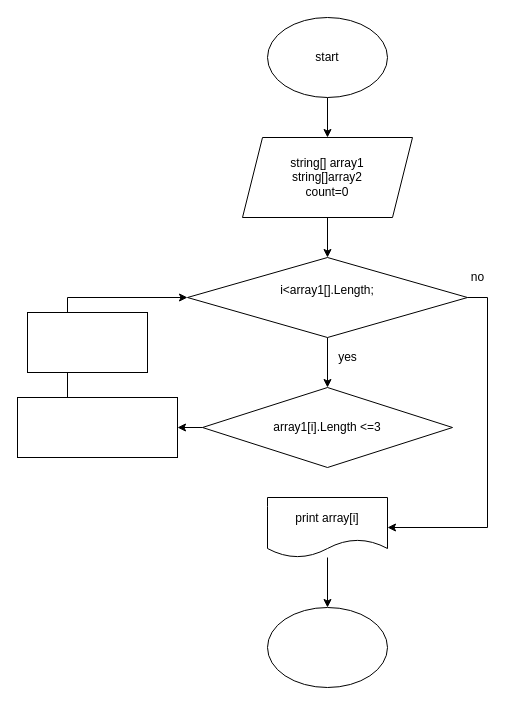
Some shapes in this 515 by 705 pixel diagram are drawn without their labels. Here are the shapes that lost their labels. From the top down, the centre of each, then its label:
At (87,342): "i++; j++".
At (97,427): "array2[count] = array [i]; count++".
At (327,647): "finish".
